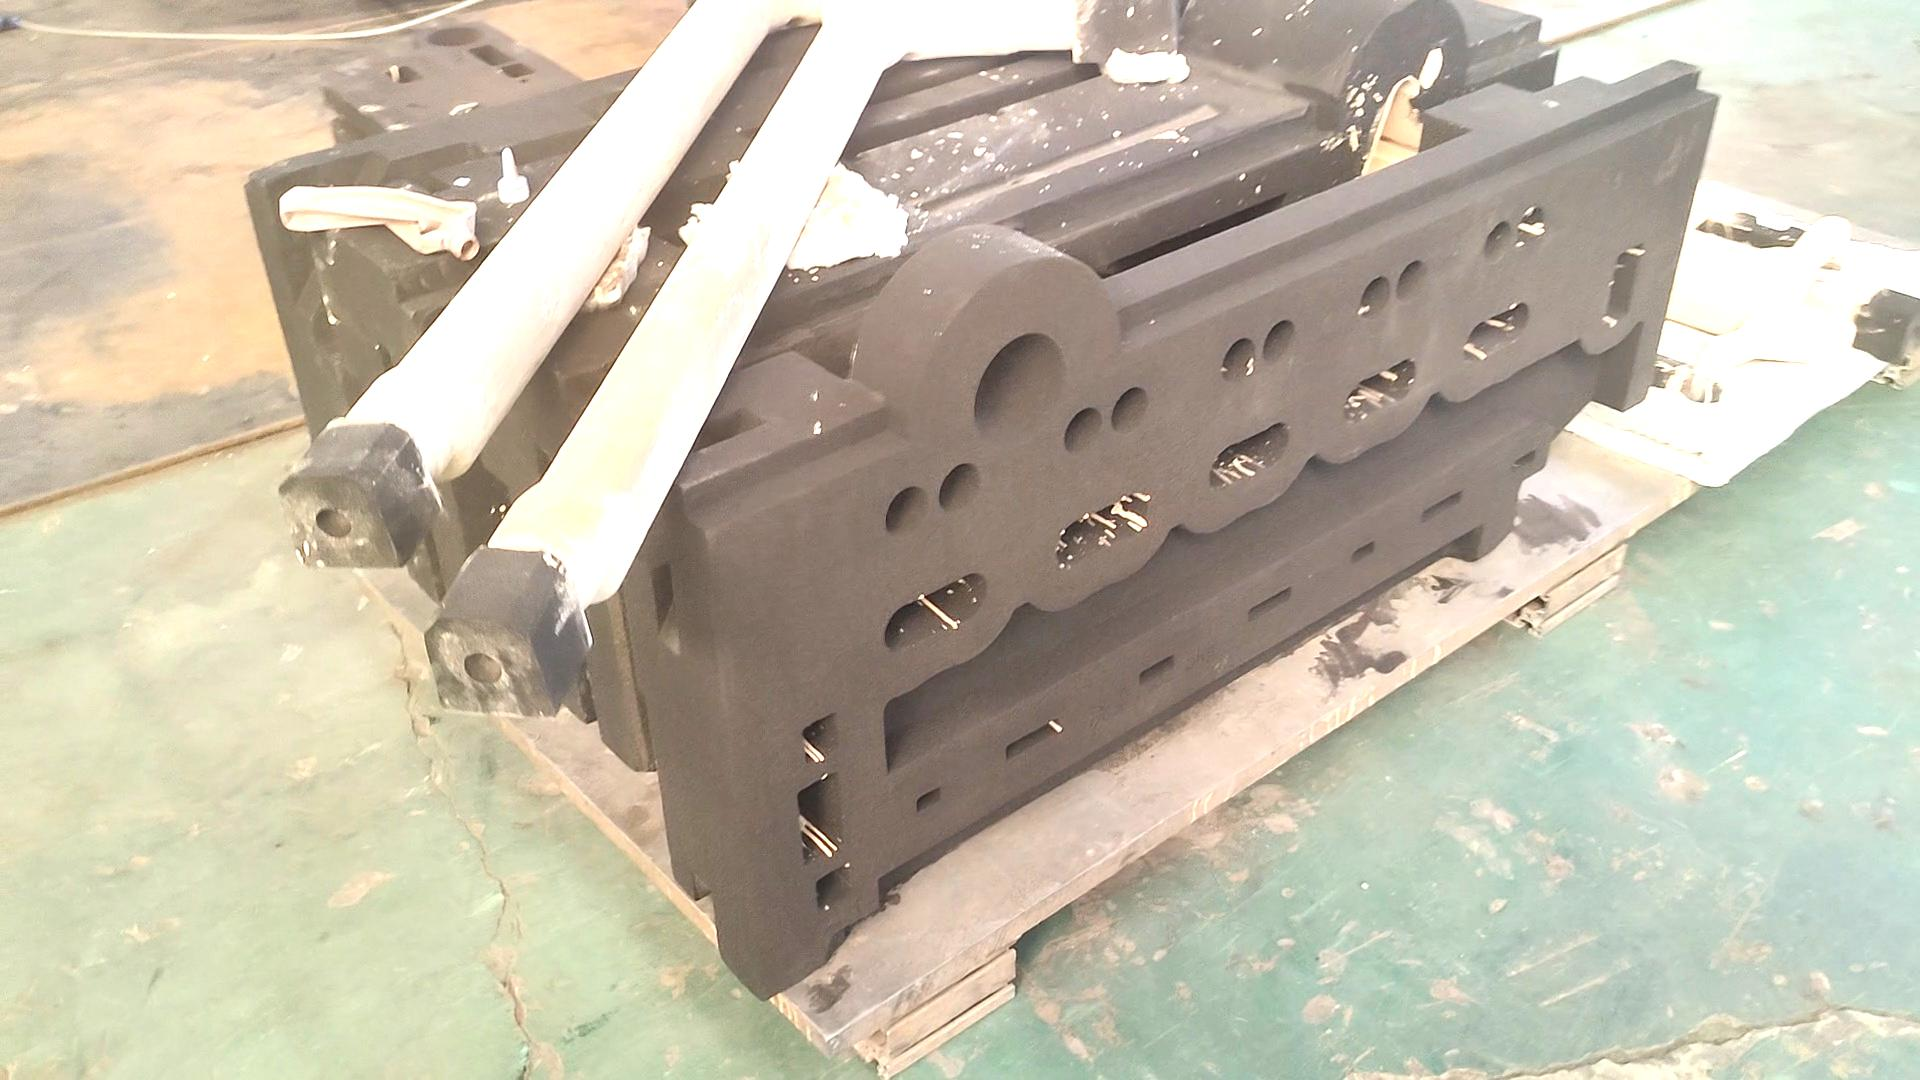pouring hole: (973, 330, 1067, 447), (426, 25, 481, 47)
